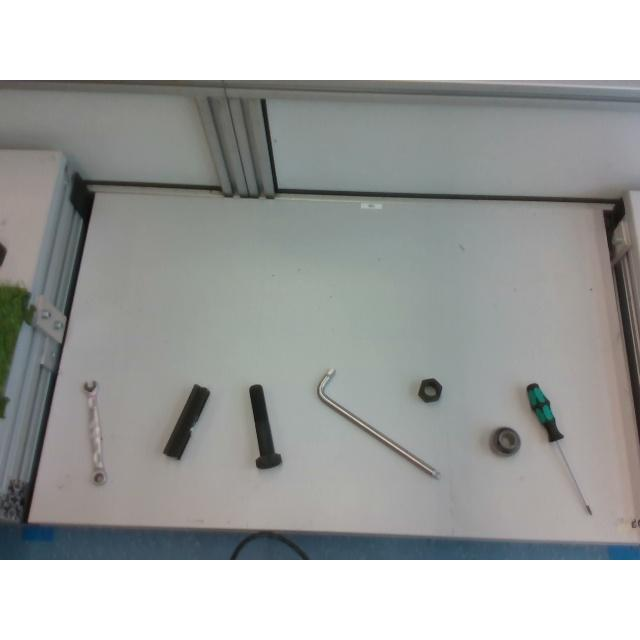AllenKey: (316, 368, 439, 478)
Bearing2: (489, 427, 521, 455)
F20_20_B: (163, 385, 209, 459)
M20: (417, 378, 441, 402)
M20_100: (249, 384, 281, 468)
Screwdriver: (524, 381, 592, 515)
Wrench: (82, 381, 106, 485)
